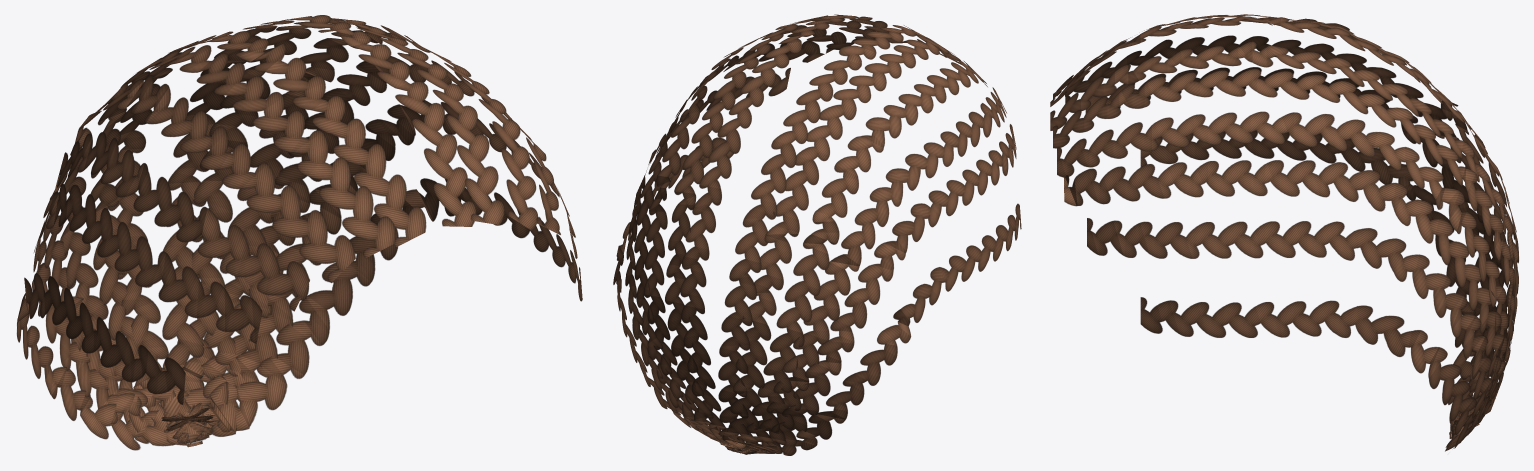
File: tresses.glb
3 views of the same model, side by side, from view 1: azimuth 30°, elevation 25°; view 2: azimuth 150°, elevation 25°; view 3: azimuth 270°, elevation 25° (orthographic). The views are drawn at different scales.
Parts seen in each view (by area): view 1: MH_coiffure_tresses; view 2: MH_coiffure_tresses; view 3: MH_coiffure_tresses.
Boxes of the visible parts, left/top/right/bottom form: MH_coiffure_tresses: left=16, top=15, right=582, bottom=450; MH_coiffure_tresses: left=613, top=14, right=1021, bottom=455; MH_coiffure_tresses: left=1050, top=14, right=1518, bottom=451.
Bounding box in the file's own units: 0.1486 × 0.1569 × 0.1636.
1 material, 1 textured.
